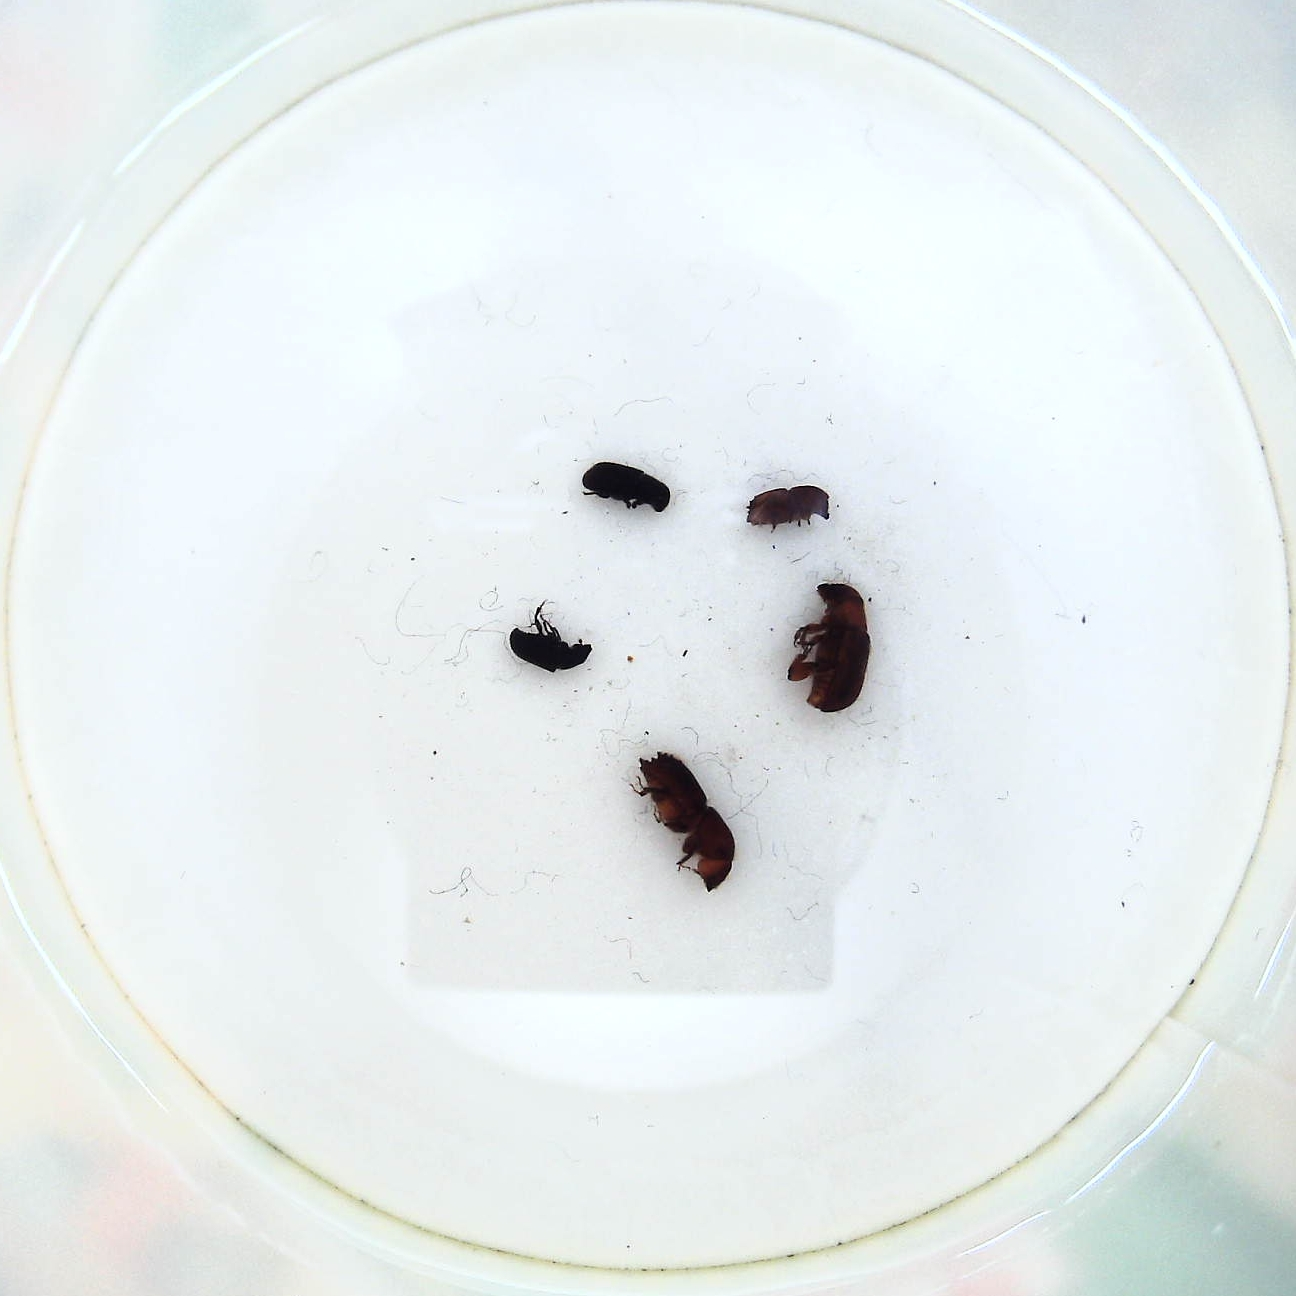Boerner: (625, 751, 738, 897)
Leconte: (787, 580, 875, 719)
armandi: (574, 460, 675, 519)
coleoptera: (509, 599, 590, 680)
linnaeus: (741, 485, 836, 536)
